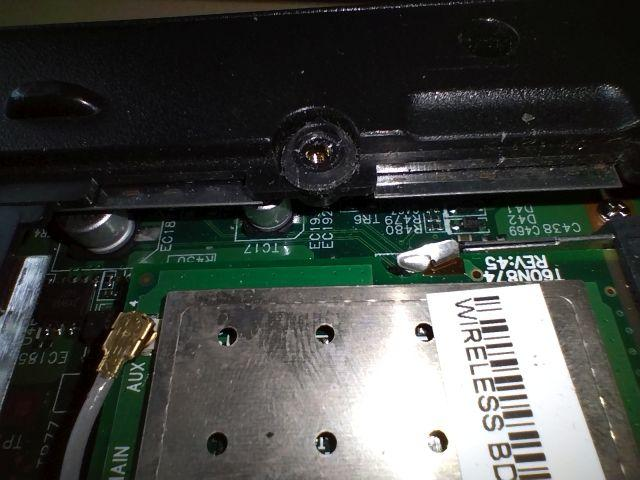resistor: (422, 220, 447, 236)
